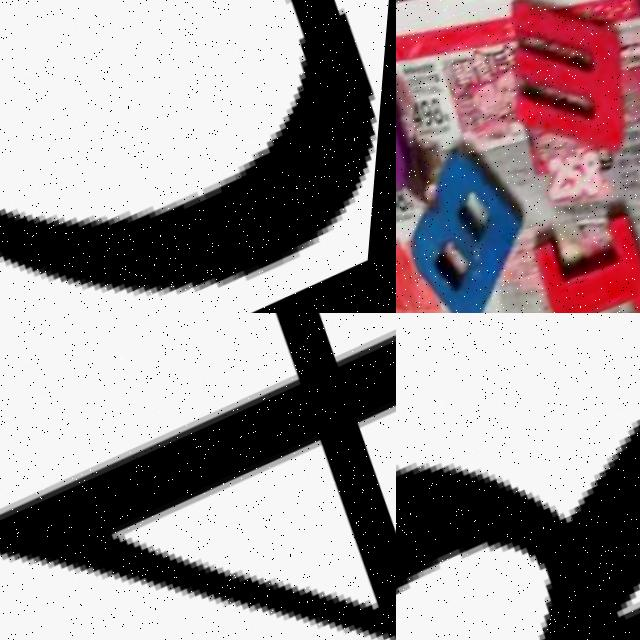B: (396, 127, 562, 313)
I: (527, 206, 640, 313)
R: (396, 313, 640, 640)
S: (396, 56, 426, 217)
W: (475, 0, 640, 186)
